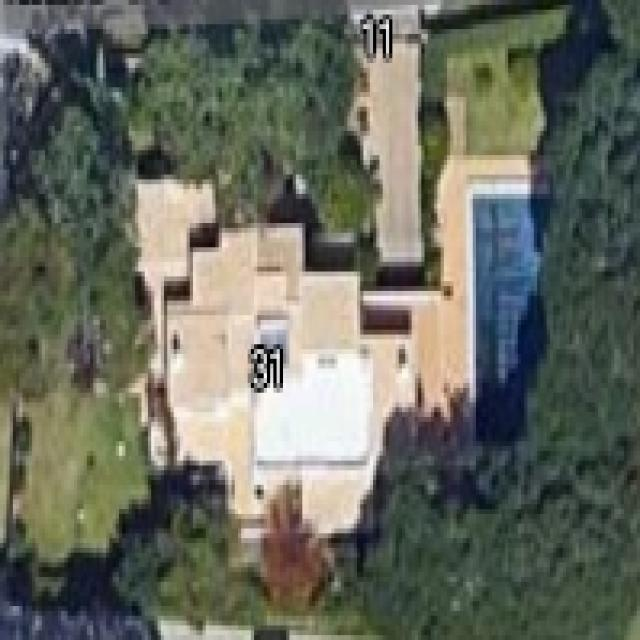pool: (466, 184, 565, 457)
